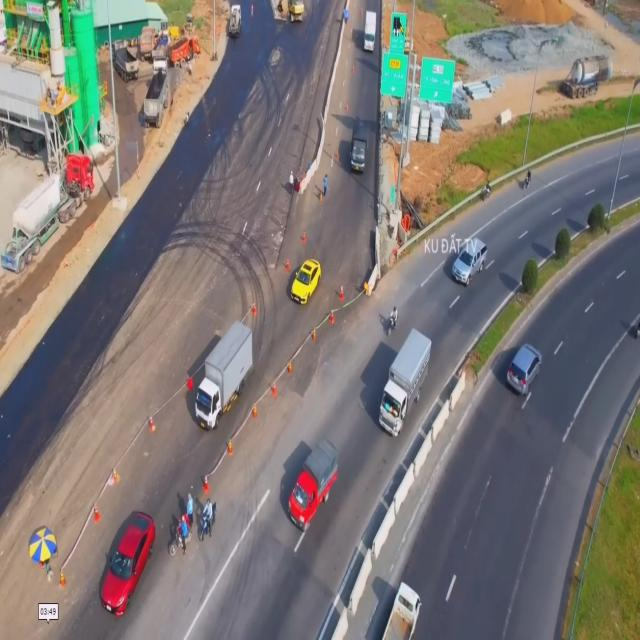car: (98, 509, 156, 613), (496, 356, 533, 424), (451, 241, 488, 287), (290, 259, 320, 305)
motorbike: (380, 582, 420, 640), (196, 498, 218, 544), (168, 518, 193, 558), (387, 306, 399, 333)
truck: (194, 320, 253, 431), (378, 326, 431, 438), (287, 436, 337, 530), (350, 124, 368, 176), (363, 9, 377, 52)
